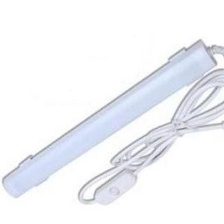light_bulb: (0, 37, 224, 204)
